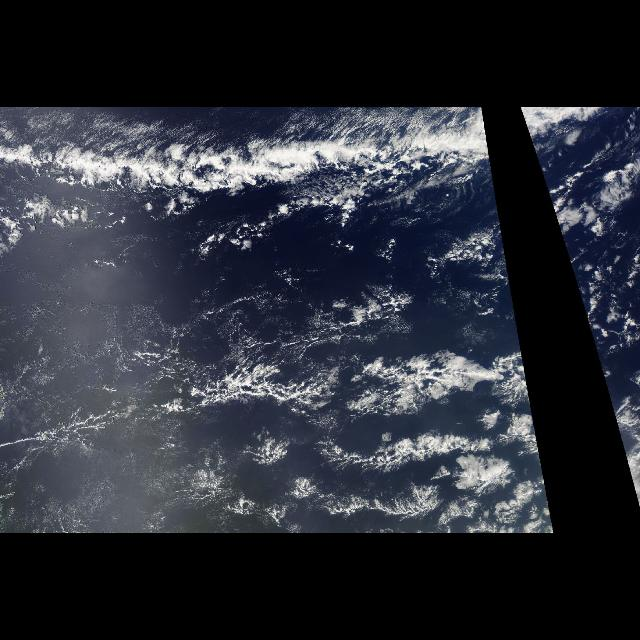Fish: (159, 333, 506, 533), (3, 126, 454, 240)
Sugar: (5, 282, 207, 534)
